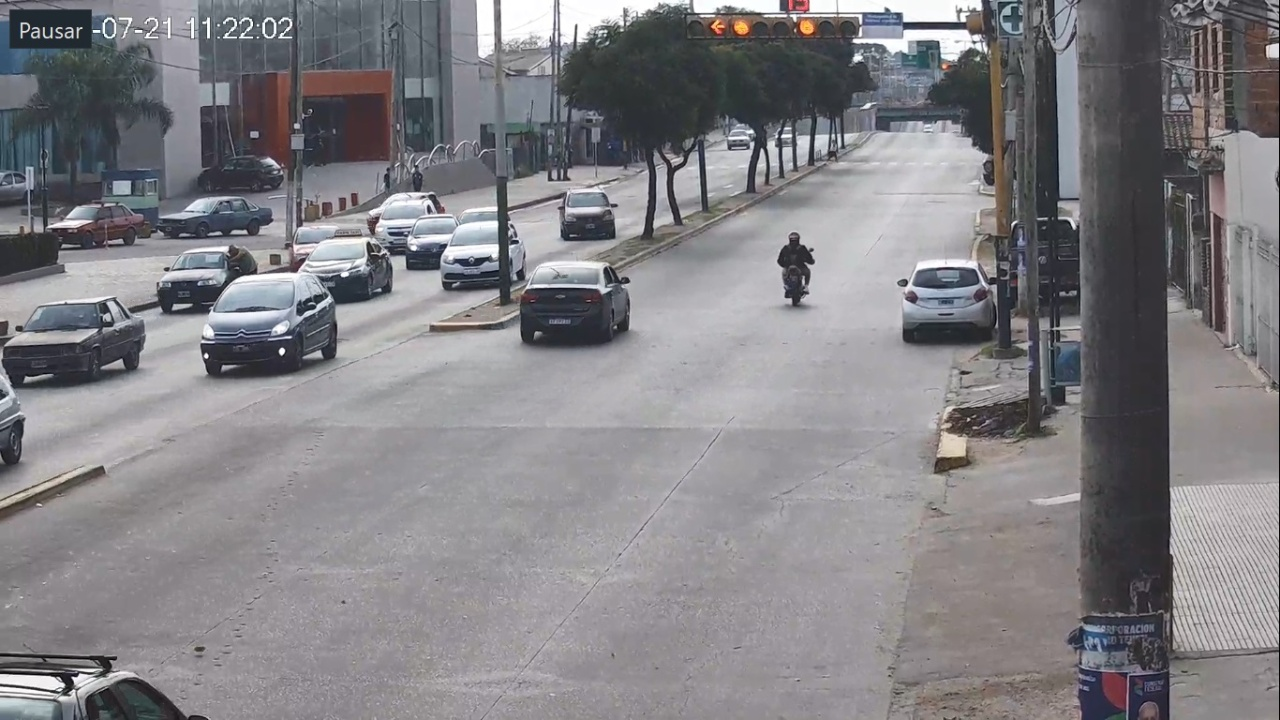car: (520, 262, 631, 342), (897, 260, 997, 343)
front car: (200, 274, 338, 374)
motorcycle: (777, 246, 815, 305)
traffic light: (730, 16, 860, 39)
